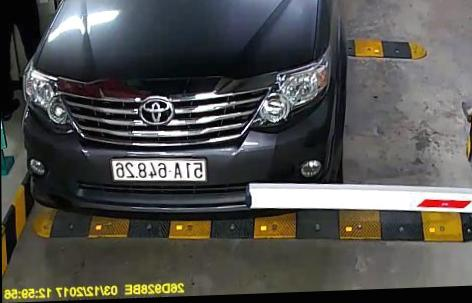License_Plate: (109, 152, 207, 185)
